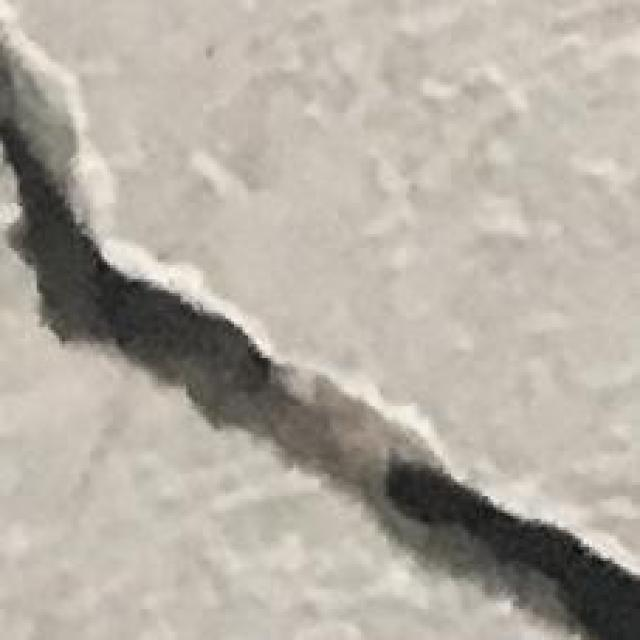Crack: (3, 14, 640, 634)
